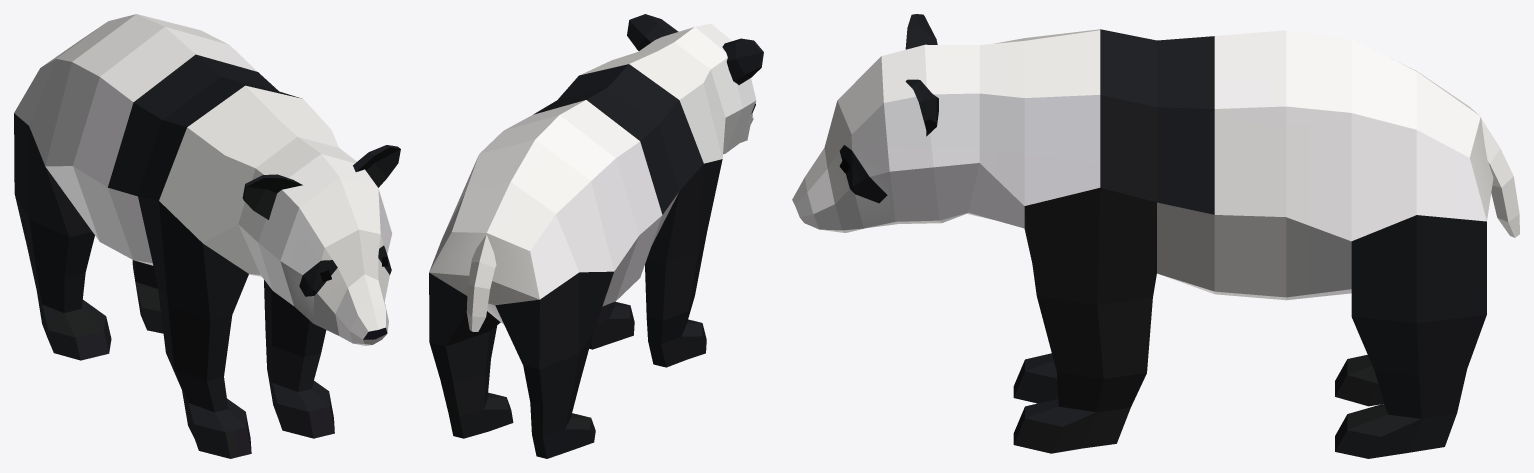
File: panda.glb
The picture shows the model from 3 angles, left to right: view 1: azimuth 30°, elevation 25°; view 2: azimuth 150°, elevation 25°; view 3: azimuth 270°, elevation 25°; orthographic projection. The views are drawn at different scales.
Parts seen in each view (by area): view 1: Geo_Panda; view 2: Geo_Panda; view 3: Geo_Panda.
Part boxes in pixels (x1=…): Geo_Panda: x1=14, y1=14, x2=400, y2=458; Geo_Panda: x1=429, y1=14, x2=763, y2=458; Geo_Panda: x1=792, y1=14, x2=1519, y2=458.
Bounding box in the file's own units: 0.519 × 0.9 × 1.54.
1 material, 1 textured.
